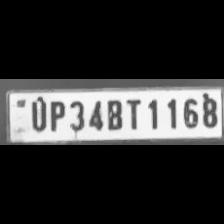1: (161, 95, 179, 131), (143, 96, 161, 130)
3: (66, 96, 86, 132)
4: (86, 96, 104, 132)
6: (178, 94, 198, 130)
8: (198, 94, 218, 128)
B: (103, 96, 123, 132)
P: (47, 96, 65, 132)
T: (124, 96, 144, 132)
U: (27, 96, 47, 132)
